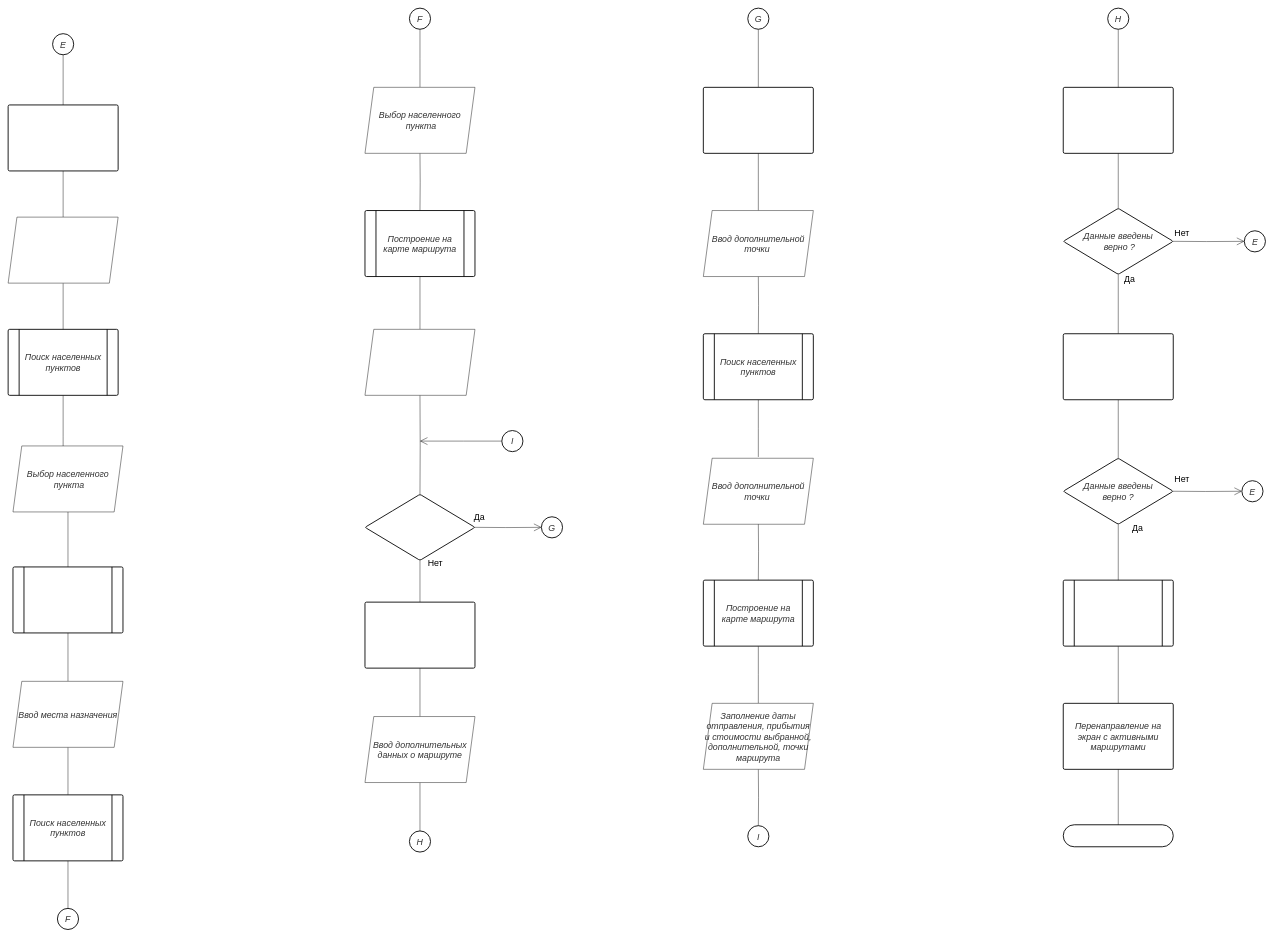
This 1273x937 diagram has some shape labels left out. Each missing label, with the centre of its shape:
Ввод места отправления: pixel 63 250
Выбрать дополнительную точку ?: pixel 419 527
Заполнение даты отправления, прибытия и стоимости выбранных точек маршрута: pixel 420 362
Конец: pixel 1118 835
Отображение отдела для заполнения данных о новой точке: pixel 758 120
Перейти на форму для заполнения дополнительных данных: pixel 419 634
Перенаправление на форму заполнения данных о маршруте: pixel 62 137
Проверка введенных данных на клиенте: pixel 1118 120
Проверка введенных данных на сервере: pixel 1118 366
Сохранение маршрута в базе данных: pixel 1118 612
Фокус карты на место отправления: pixel 67 599
